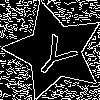Y: (29, 26, 86, 83)
